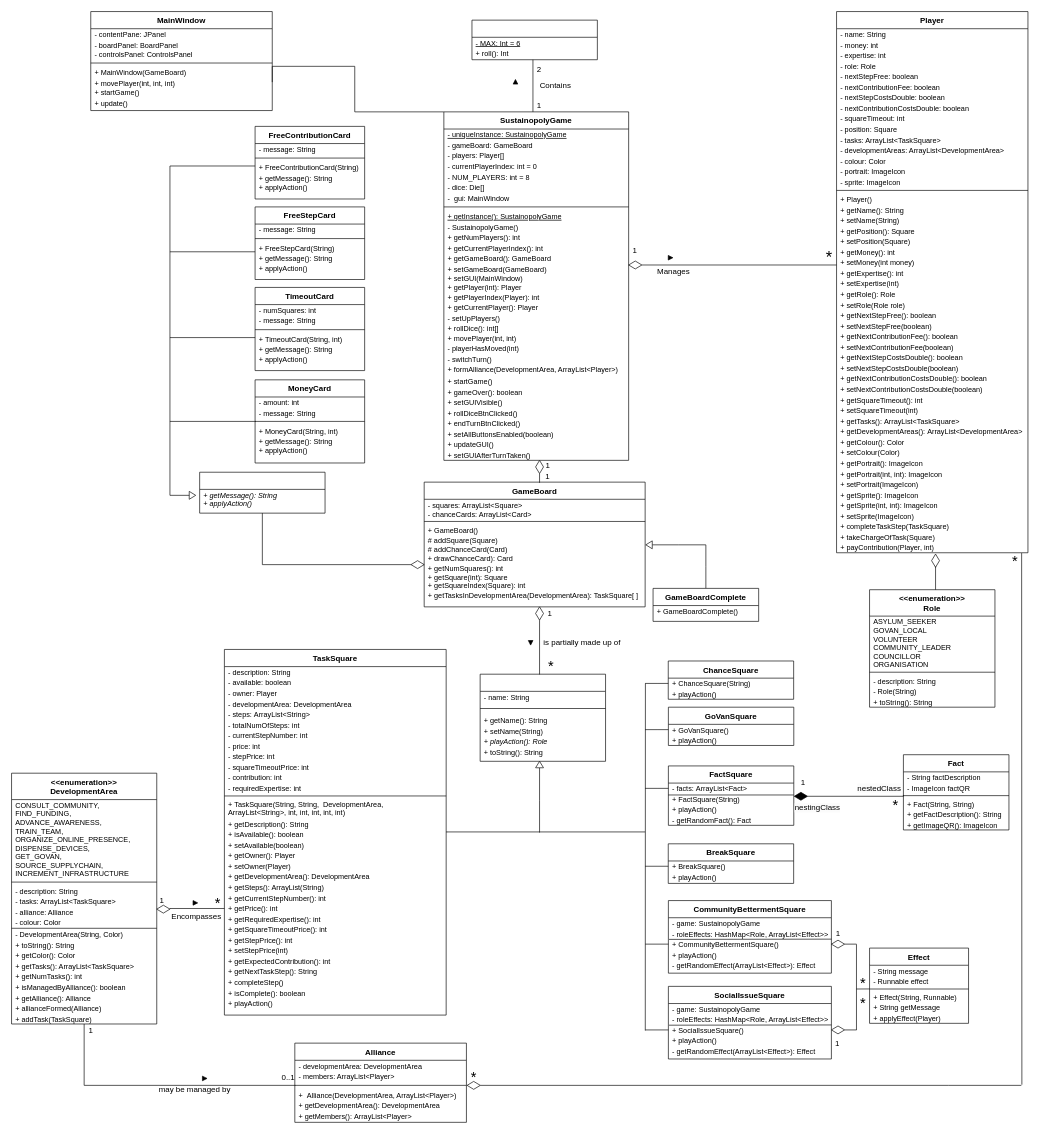
The diagram is 1040 pixels wide and 1135 high, and some of its shapes have lost their labels. Here are the shapes that lost their labels. From the top down, the box of each, then its label:
(471, 19, 597, 60): Die
(199, 472, 325, 513): Card
(479, 674, 606, 761): Square
